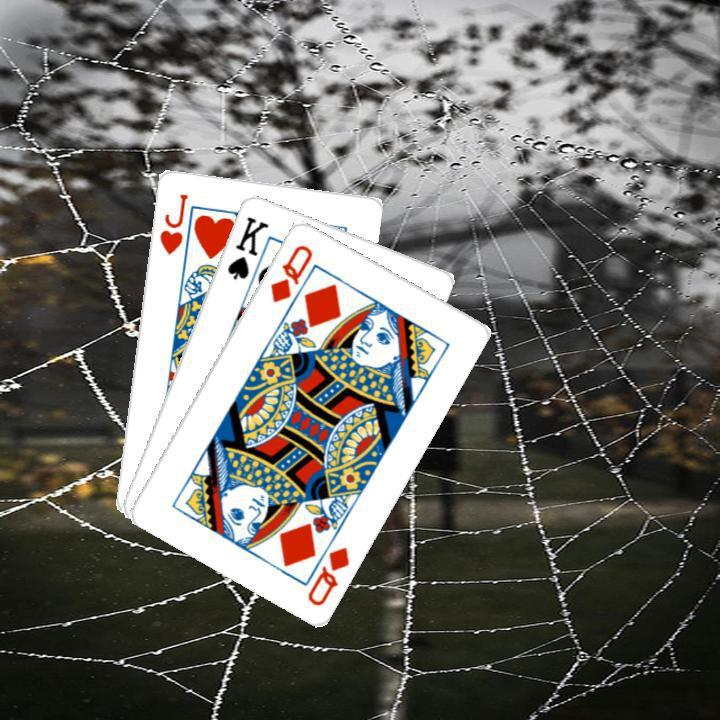J: (154, 189, 190, 256)
K: (222, 211, 270, 282)
Q: (265, 239, 315, 305), (303, 541, 352, 608)
